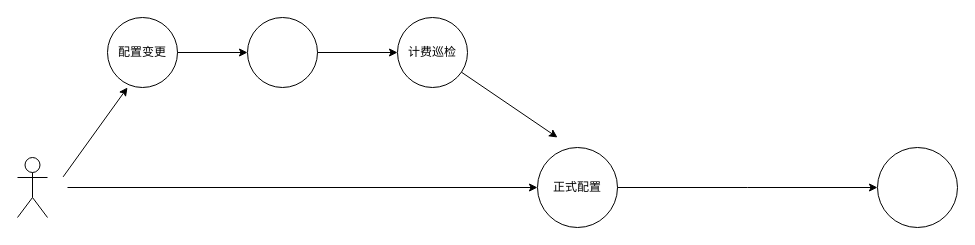
This 975x245 diagram has some shape labels left out. The centre of each missing label's shape, as x and y in pixels:
"sop" goes at (x=282, y=52).
"查价计费" goes at (x=917, y=187).
